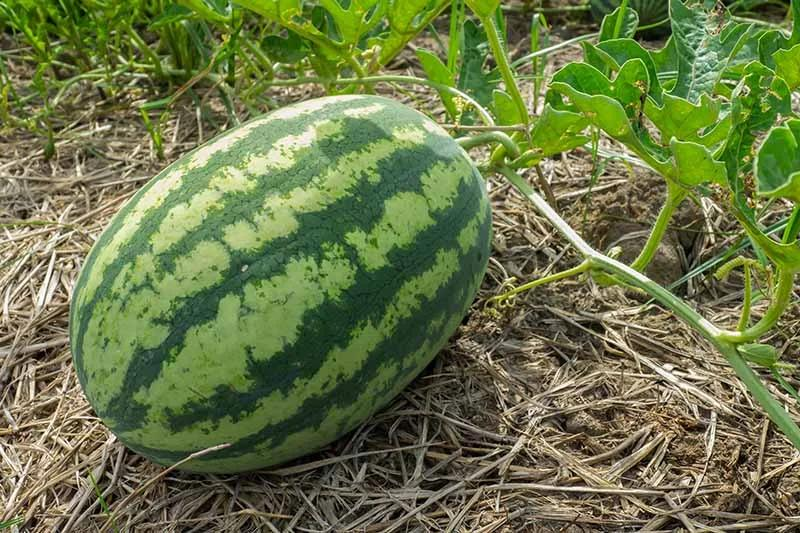watermelon: (52, 90, 505, 484)
